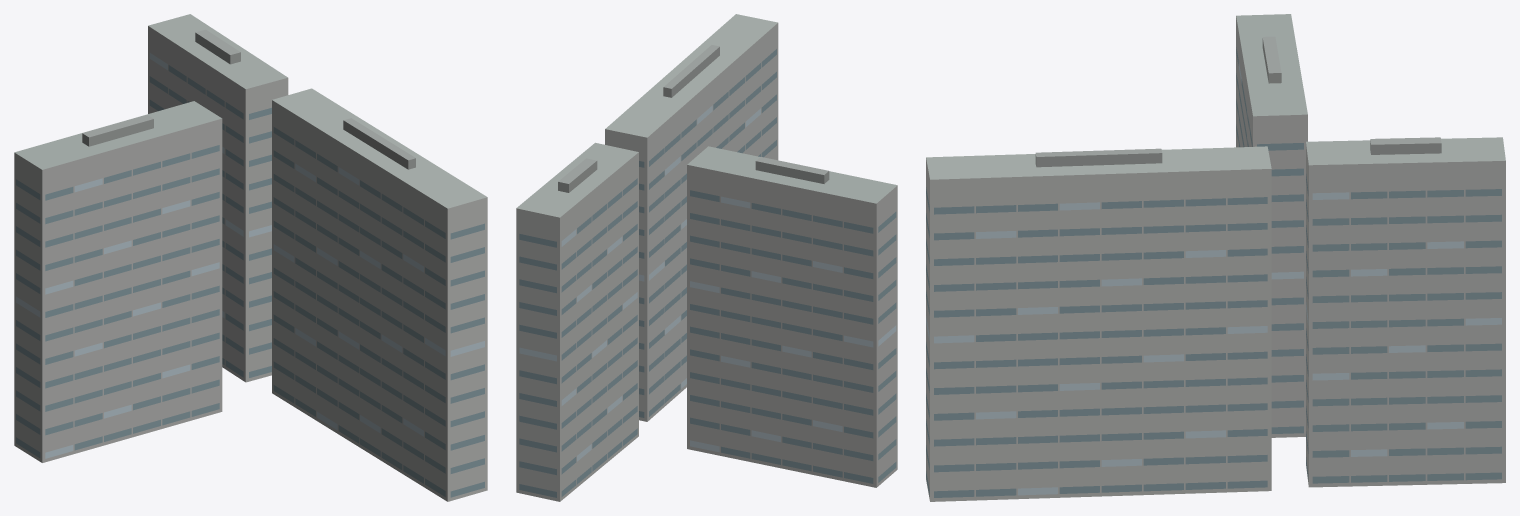
File: apt-a13981606.glb
3 views of the same model, side by side, from view 1: azimuth 30°, elevation 25°; view 2: azimuth 150°, elevation 25°; view 3: azimuth 270°, elevation 25° (orthographic). The views are drawn at different scales.
Visible parts, largest first — view 1: apt-a13981606; view 2: apt-a13981606; view 3: apt-a13981606.
Part boxes in pixels (x1,y1,x2,y2): apt-a13981606: (14, 14, 487, 501); apt-a13981606: (516, 14, 897, 501); apt-a13981606: (926, 14, 1505, 501).
Bounding box in the file's own units: 83.41 × 78 × 123.
